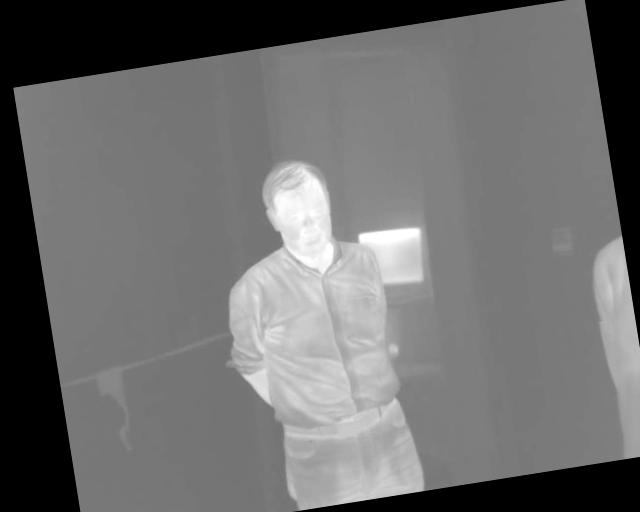face: (256, 154, 341, 265)
